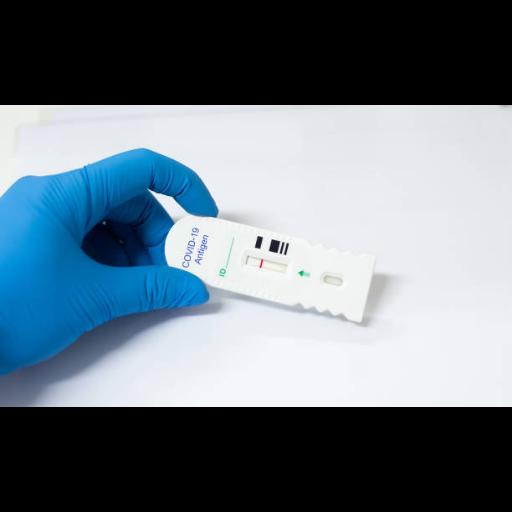Neg: (159, 210, 377, 325)
